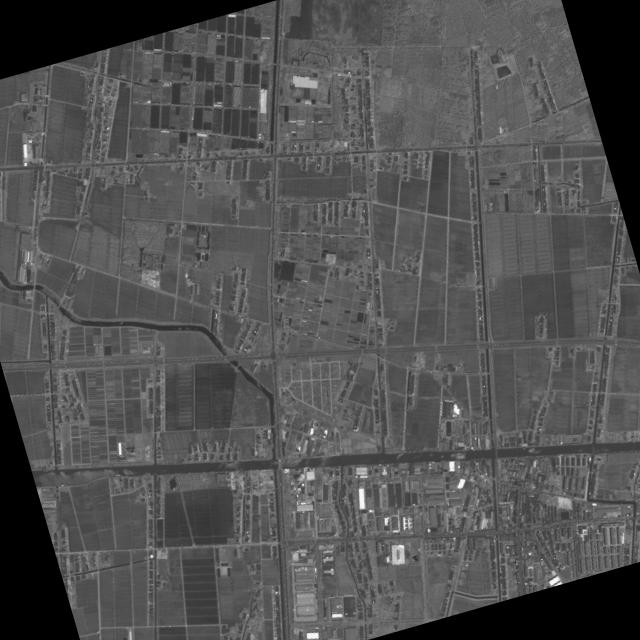ship: (59, 484, 68, 486), (113, 474, 121, 476), (235, 468, 242, 470), (59, 483, 67, 484), (143, 473, 149, 474)
